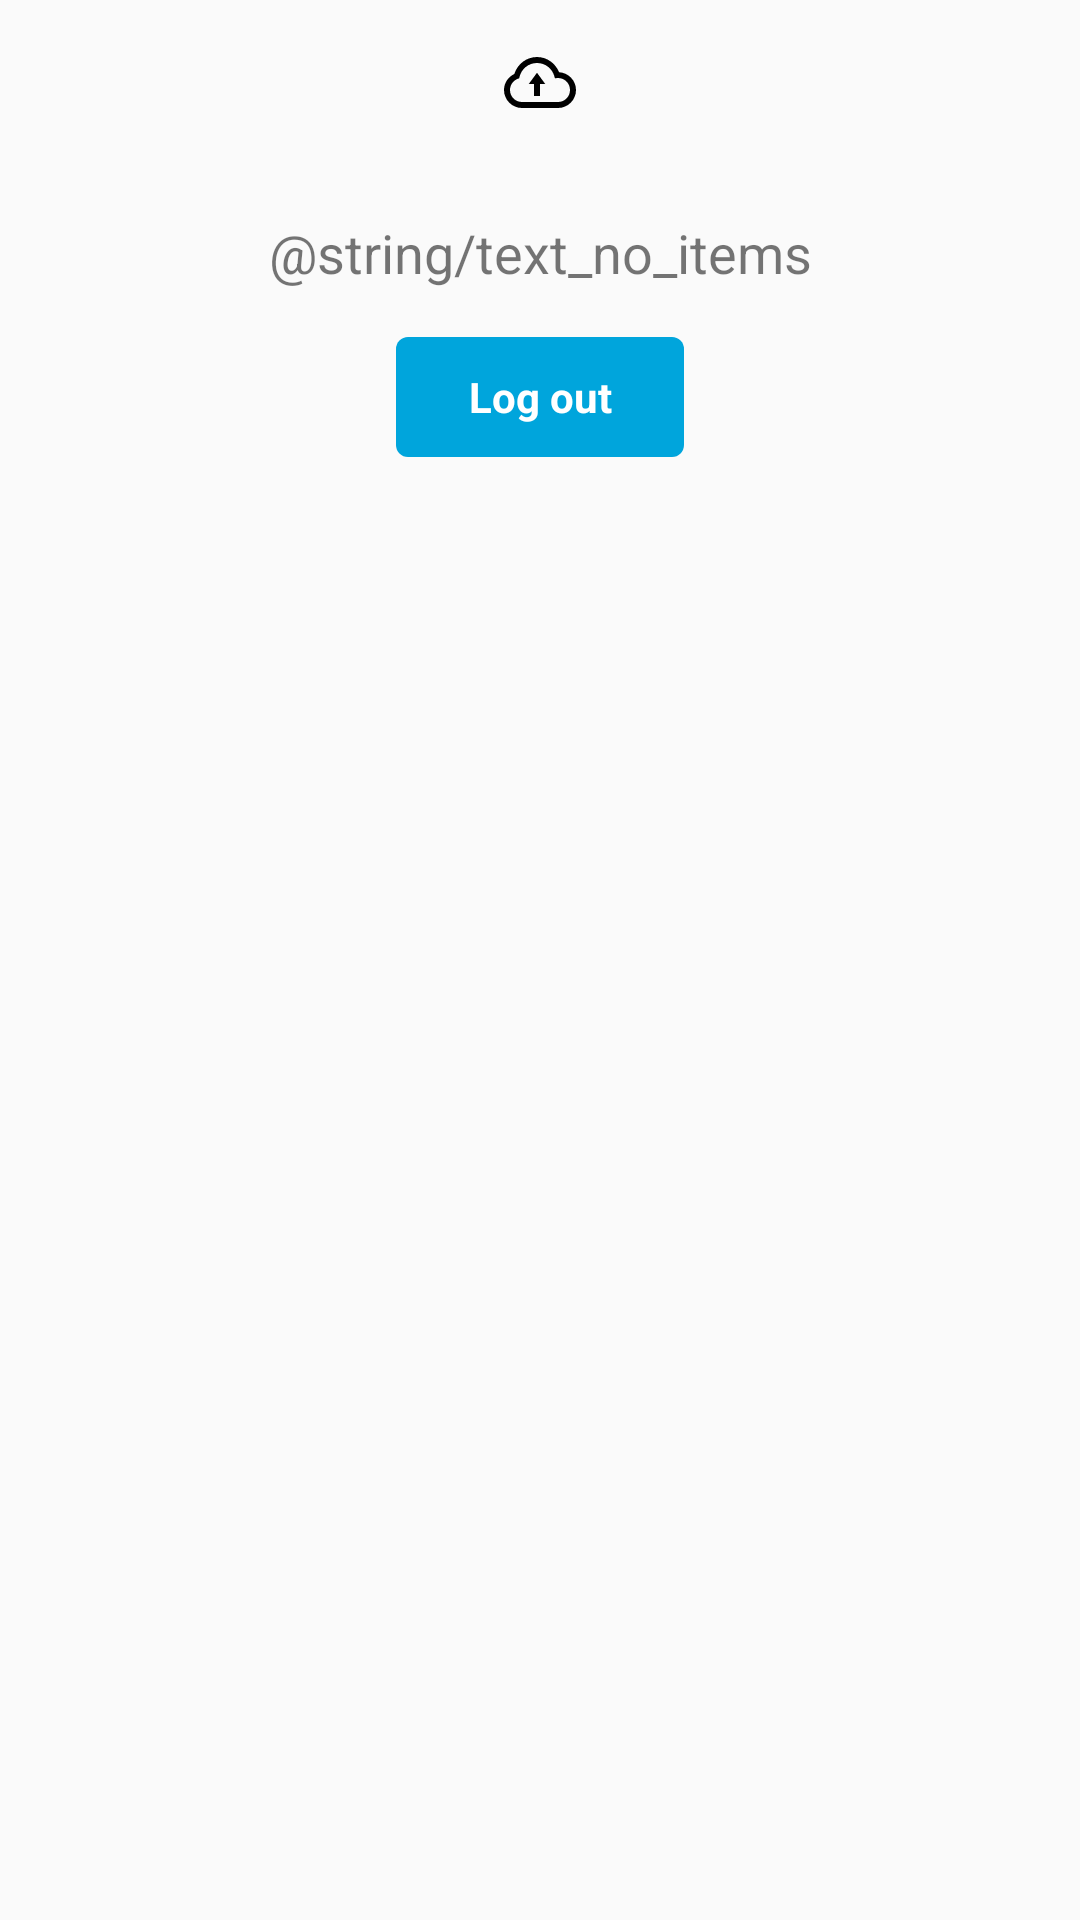

Point at icon controls on the screen. Image size 1080w x 1920h, points as [x,y].
upload: [540,82]
